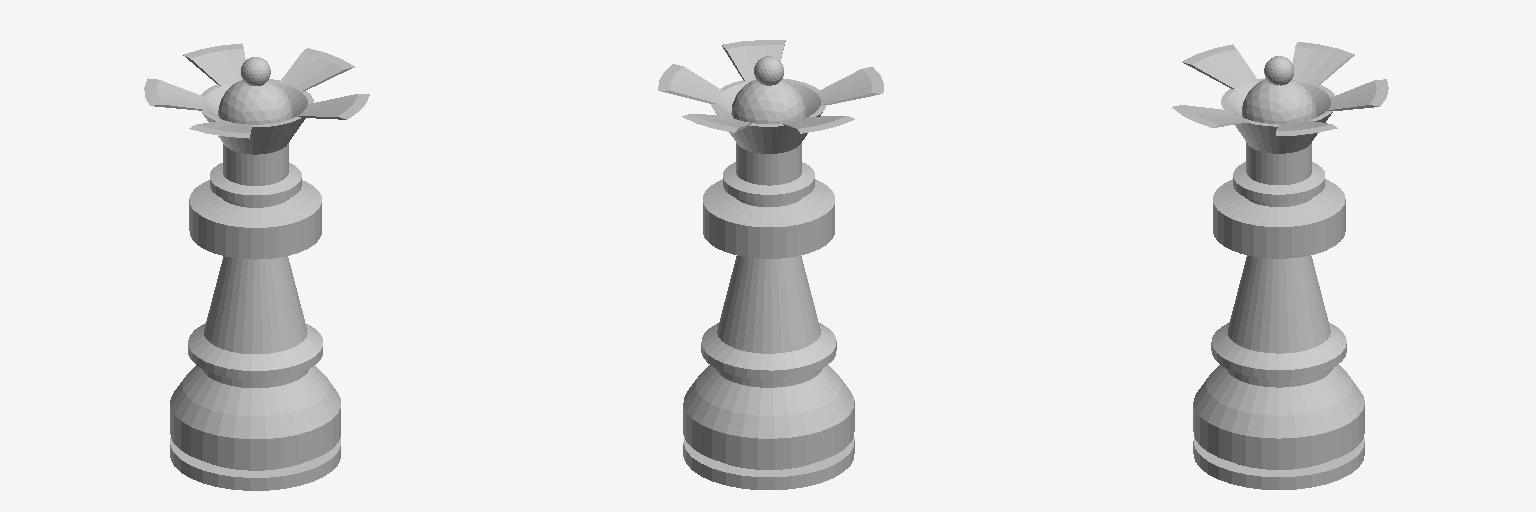
The model's file is Queen_Black.obj.
3 views of the same model, side by side, from view 1: azimuth 30°, elevation 25°; view 2: azimuth 150°, elevation 25°; view 3: azimuth 270°, elevation 25° (orthographic).
Visible parts, largest first — view 1: ChessQueen.001; view 2: ChessQueen.001; view 3: ChessQueen.001.
Boxes of the visible parts, x1,y1,x2,y2 form: ChessQueen.001: [144, 43, 369, 490]; ChessQueen.001: [658, 40, 883, 489]; ChessQueen.001: [1172, 42, 1388, 489].
Size of the model in its own units: 1.29 by 2.51 by 1.25.